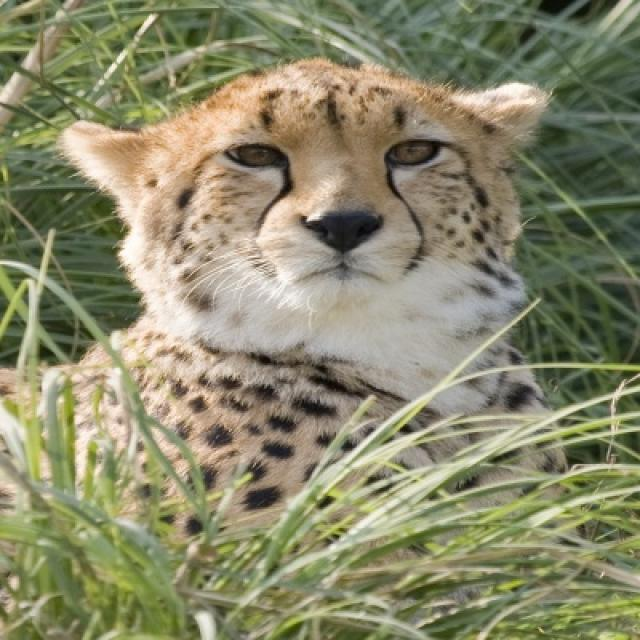Cheetah: (0, 54, 571, 544)
